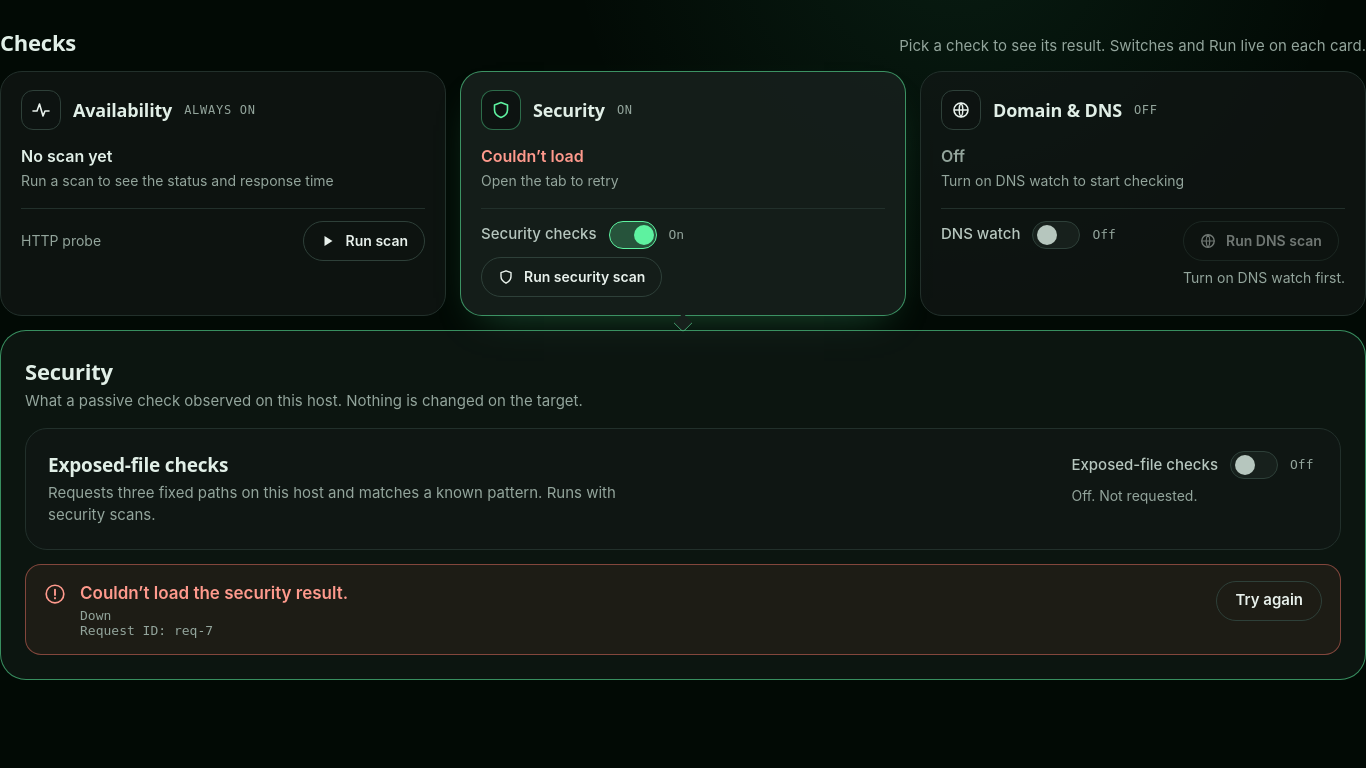
Test case: SecurityPosture › offers a retry when the result cannot be loaded
Expected: the text "Couldn’t load the security result." is shown, [80, 581, 348, 606]
Expected: the text "Request ID: req-7" is shown, [80, 623, 213, 638]
What coordinates should you click on to do the following:
click the button "Try again"
I would click on:
 (1269, 601)
Its box is [1216, 581, 1322, 621].
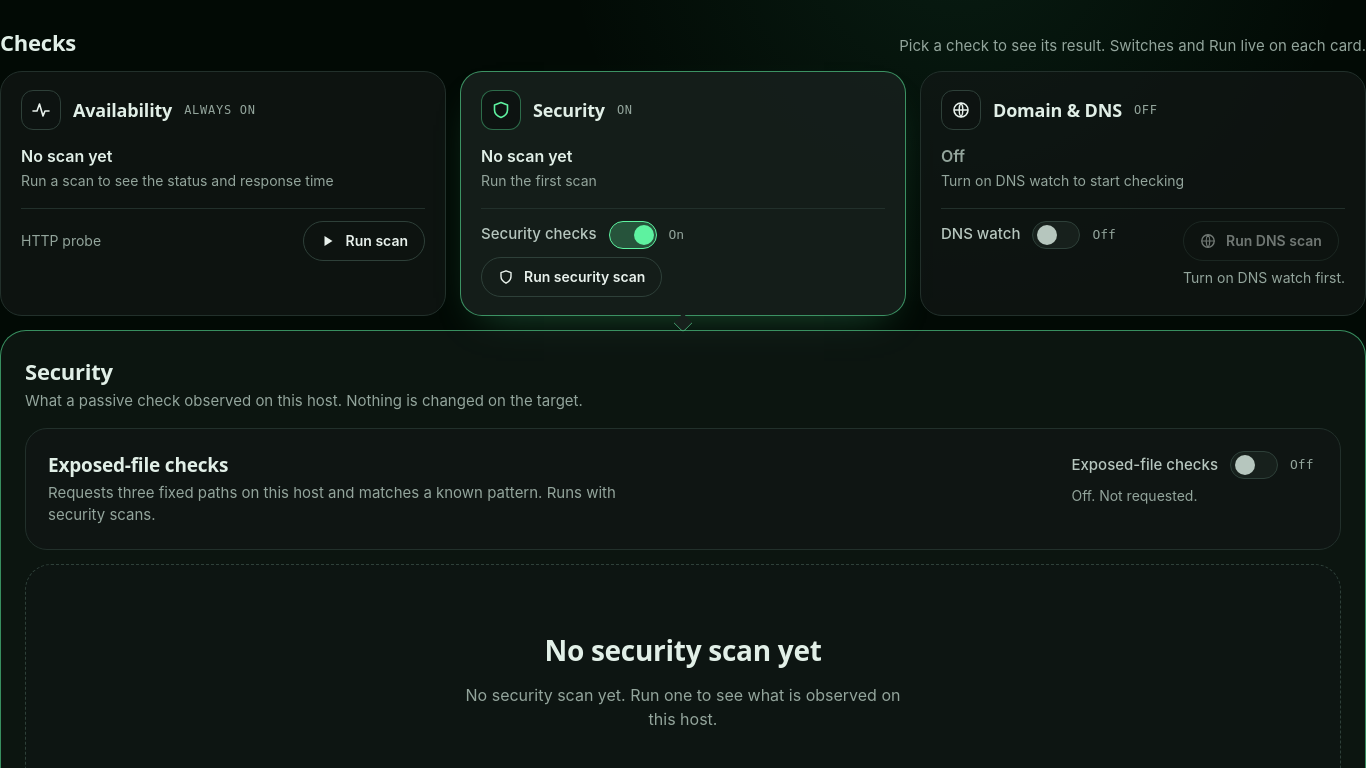
Expected: the text "No security scan yet. Run one to see what is observed on this host." is shown, [451, 683, 915, 731]
